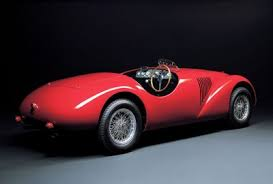car: (17, 46, 259, 153)
